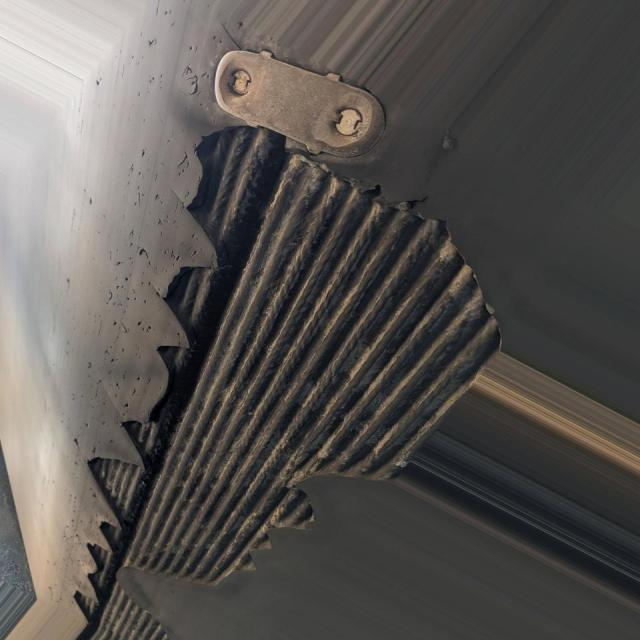Tear: (64, 120, 516, 638)
